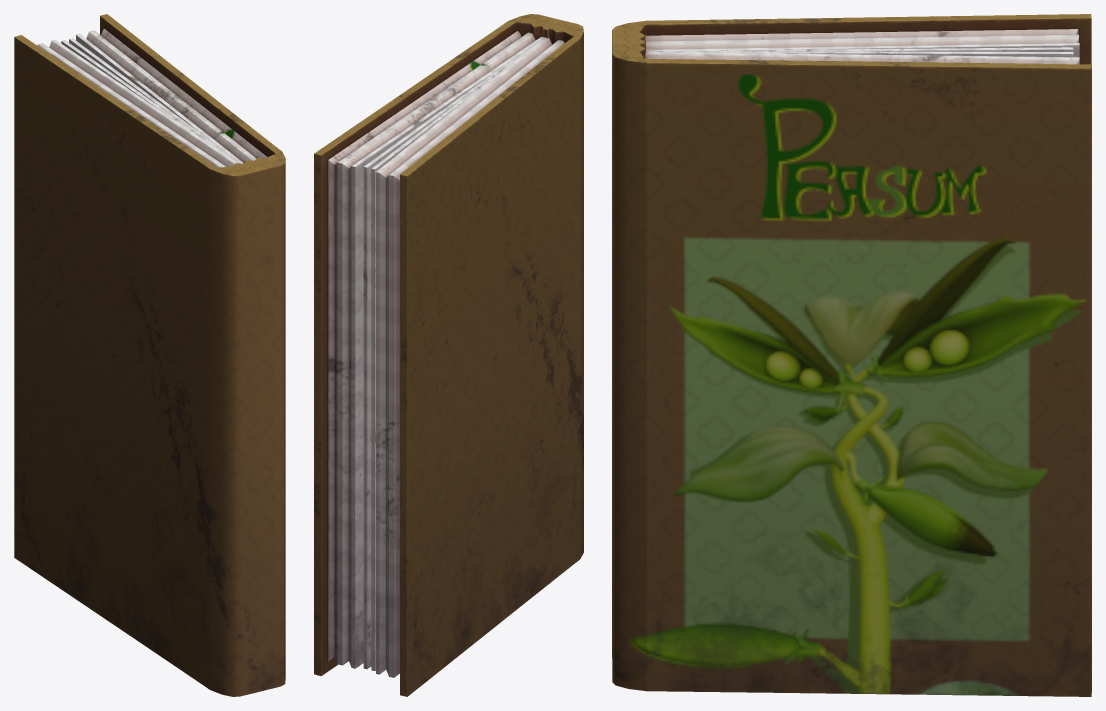
File: Book6.fbx
The picture shows the model from 3 angles, left to right: view 1: azimuth 30°, elevation 25°; view 2: azimuth 150°, elevation 25°; view 3: azimuth 270°, elevation 25°; orthographic projection. The views are drawn at different scales.
Parts seen in each view (by area): view 1: libro6Detras, libro6Delante, Pagina1Libro6, Pagina2Libro6; view 2: libro6Detras, libro6Delante, Pagina1Libro6, Pagina2Libro6; view 3: libro6Delante, libro6Detras, Pagina1Libro6, Pagina2Libro6.
Boxes of the visible parts, x1=… form: libro6Detras: x1=14, y1=35, x2=260, y2=696; libro6Delante: x1=76, y1=14, x2=285, y2=691; Pagina1Libro6: x1=69, y1=38, x2=238, y2=162; Pagina2Libro6: x1=61, y1=40, x2=235, y2=160; libro6Detras: x1=376, y1=19, x2=583, y2=696; libro6Delante: x1=314, y1=14, x2=557, y2=675; Pagina1Libro6: x1=363, y1=56, x2=518, y2=669; Pagina2Libro6: x1=371, y1=43, x2=536, y2=670; libro6Delante: x1=612, y1=40, x2=1091, y2=696; libro6Detras: x1=612, y1=14, x2=1091, y2=658; Pagina1Libro6: x1=664, y1=51, x2=1073, y2=57; Pagina2Libro6: x1=669, y1=47, x2=1073, y2=52.
Size of the model in its own units: 17.02 by 90.92 by 62.92.
Materials: 2 (2 with a texture image).
